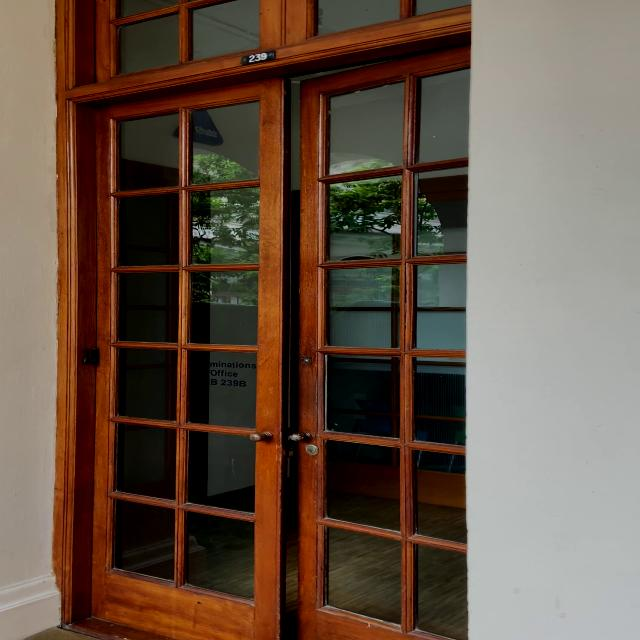room239: (240, 48, 278, 66)
